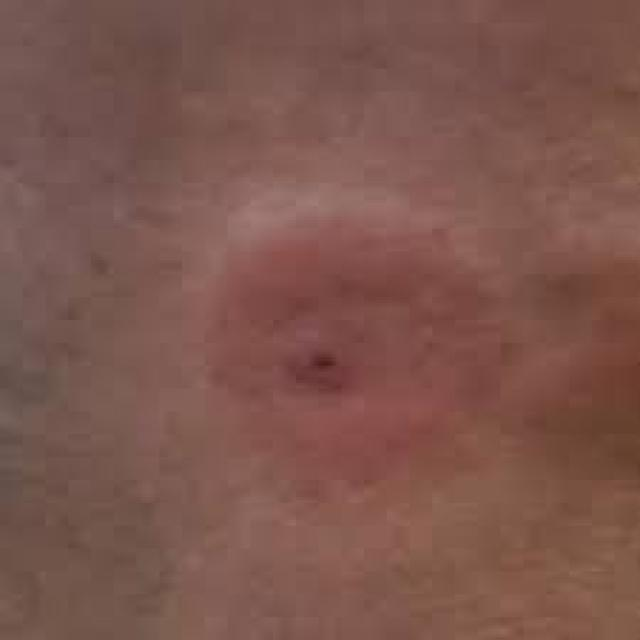kene: (125, 136, 640, 518)
